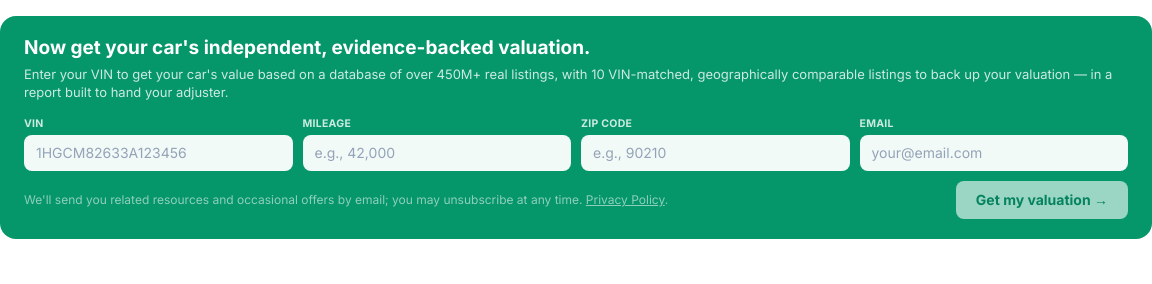
Test: ArticleReportBar › form submission › shows an inline error and does not redirect when create-anonymous fails
The image size is (1152, 284).
Type "1HGBH41JXMN109186" into the field with placeholder "1HGCM82633A123456".
click(158, 153); type("1HGBH41JXMN109186")  # box [24, 135, 292, 171]
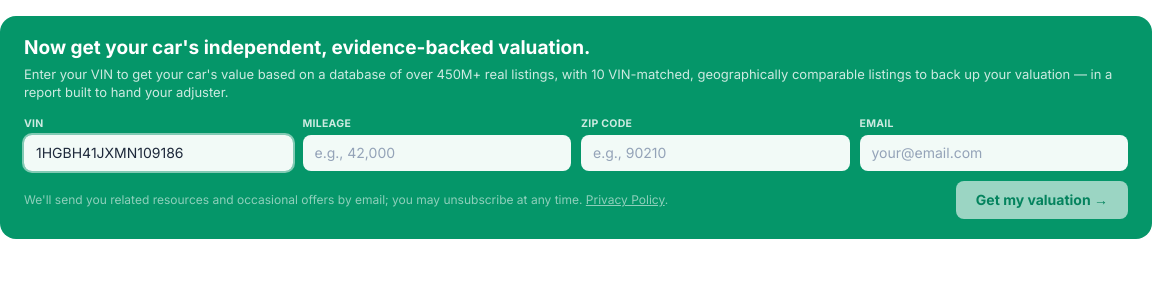
Type "42000" into the field with placeholder "e.g., 42,000".
click(437, 153); type("42000")  # box [302, 135, 571, 171]
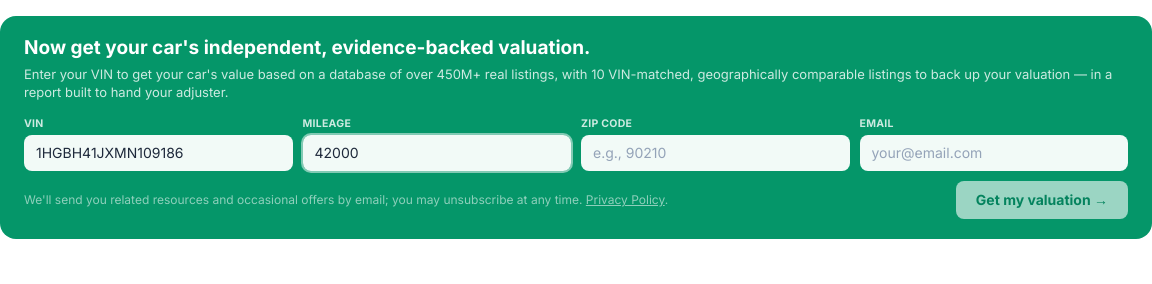
Type "90210" into the field with placeholder "e.g., 90210".
click(715, 153); type("90210")  # box [581, 135, 850, 171]
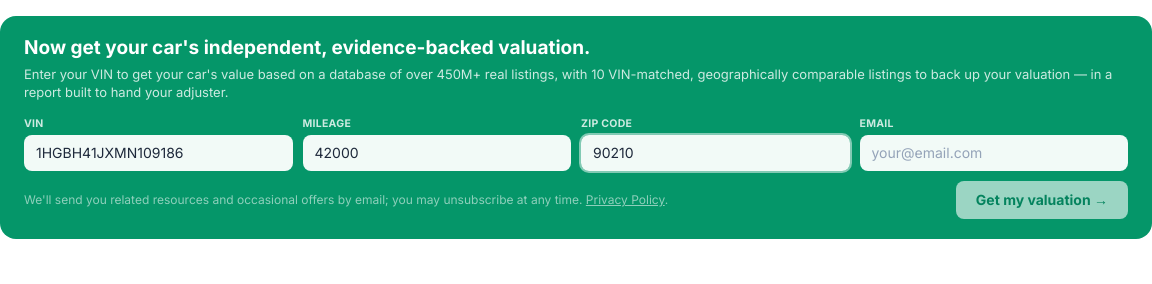
Type "test@example.com" into the field labelled "Email".
click(994, 153); type("test@example.com")  # box [860, 135, 1128, 171]
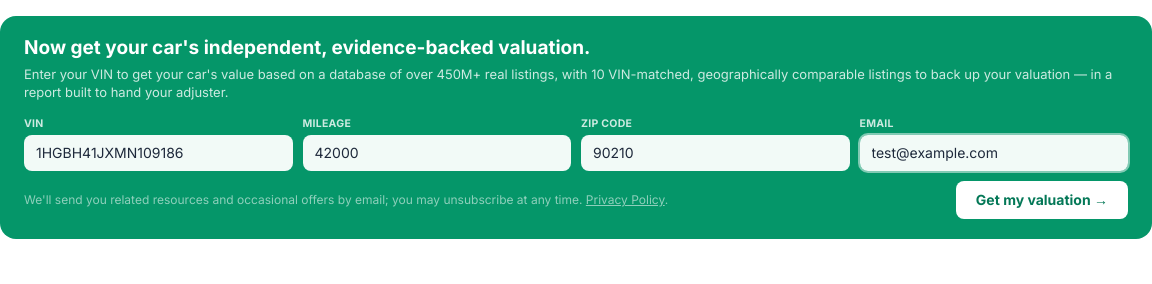
Click the button "Get my valuation →".
click(1042, 200)  # box [956, 181, 1128, 219]
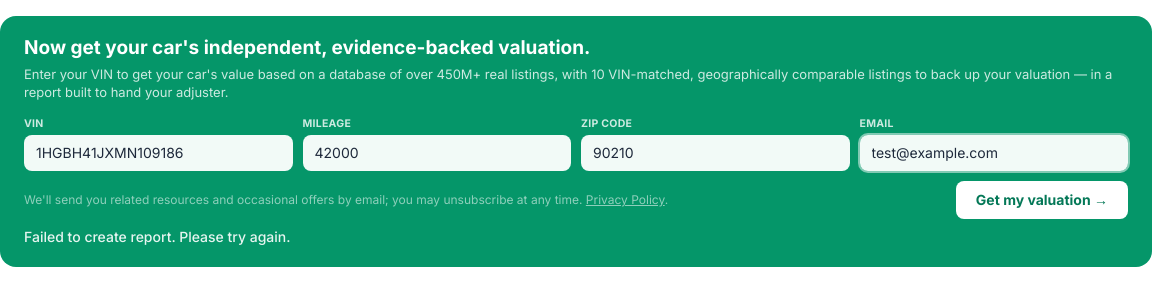
Result: the text "Failed to create report. Please try again." is shown at [24, 228, 290, 245]
